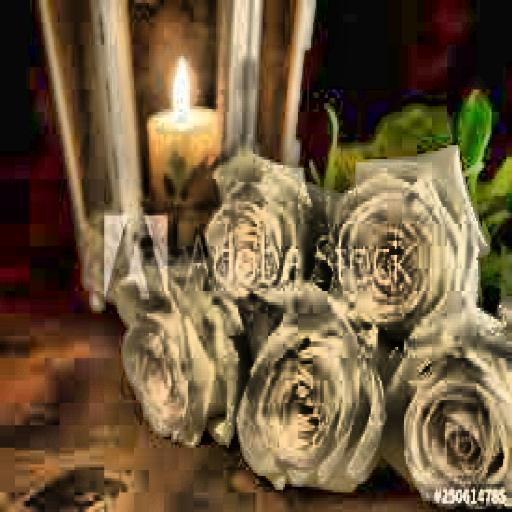fire: (168, 53, 192, 115)
